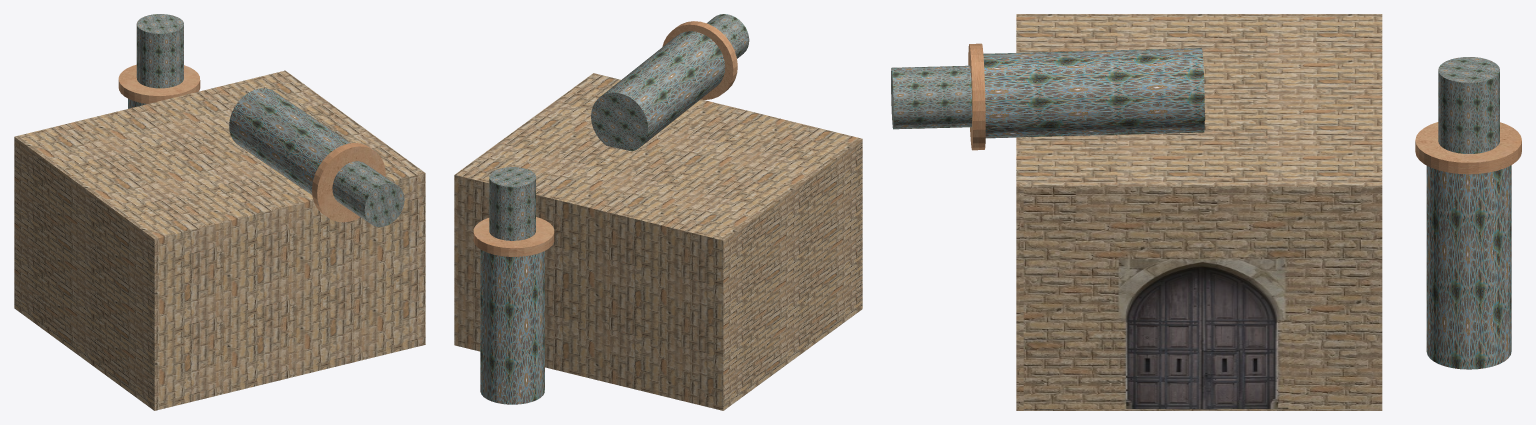
The model's file is Persian_CivilHouse_OnConstruction.fbx.
3 renders of one model, left to right at view 1: azimuth 30°, elevation 25°; view 2: azimuth 150°, elevation 25°; view 3: azimuth 270°, elevation 25°, orthographic. The views are drawn at different scales.
Visible parts, largest first — view 1: Cube.007, Cylinder, Cylinder.003, Cylinder.002, Cylinder.001, Cylinder.004; view 2: Cube.007, Cylinder.005, Cylinder, Cylinder.003, Cylinder.004, Cylinder.001, Cylinder.002; view 3: Cube.007, Cylinder, Cylinder.005, Cylinder.003, Cylinder.002, Cylinder.004, Cylinder.001.
Boxes of the visible parts, x1,y1,x2,y2 form: Cube.007: [14, 70, 425, 410]; Cylinder: [229, 88, 350, 194]; Cylinder.003: [136, 14, 183, 88]; Cylinder.002: [332, 161, 404, 226]; Cylinder.001: [312, 143, 385, 222]; Cylinder.004: [118, 64, 200, 103]; Cube.007: [454, 73, 862, 410]; Cylinder.005: [480, 249, 544, 404]; Cylinder: [591, 31, 725, 151]; Cylinder.003: [489, 167, 535, 240]; Cylinder.004: [473, 217, 554, 256]; Cylinder.001: [662, 21, 737, 99]; Cylinder.002: [707, 14, 749, 58]; Cube.007: [1016, 14, 1382, 410]; Cylinder: [983, 48, 1204, 138]; Cylinder.005: [1426, 165, 1511, 369]; Cylinder.003: [1438, 57, 1499, 153]; Cylinder.002: [891, 65, 972, 129]; Cylinder.004: [1415, 122, 1521, 174]; Cylinder.001: [968, 43, 985, 150].
Bounding box in the file's own units: 435 × 356 × 671.
